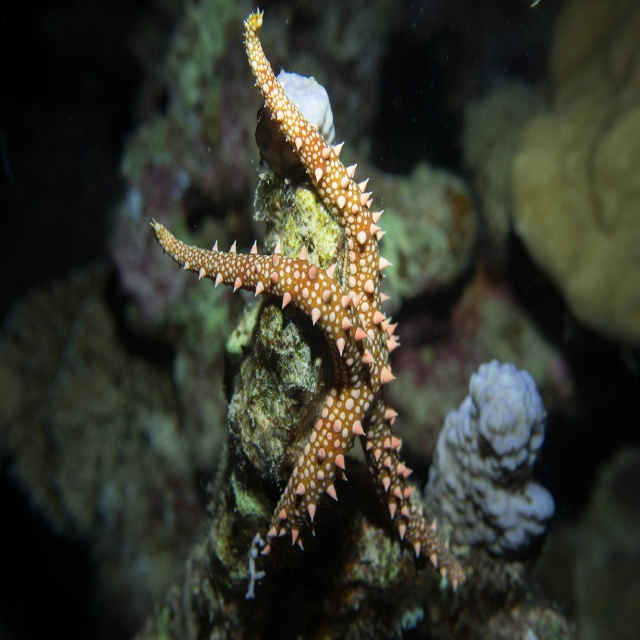Fish: (149, 5, 466, 593)
